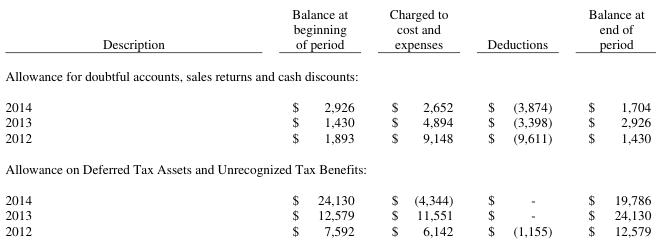table: (4, 3, 650, 238)
table column: (4, 3, 227, 238), (227, 3, 371, 238), (469, 3, 569, 238), (371, 3, 469, 238), (569, 3, 650, 238)
table column header: (4, 3, 650, 59)
table projected row header: (4, 59, 650, 90), (4, 152, 650, 183)
table row: (4, 3, 650, 59), (4, 59, 650, 90), (4, 152, 650, 183), (4, 128, 650, 152), (4, 90, 650, 113), (4, 183, 650, 206), (4, 221, 650, 238), (4, 113, 650, 128), (4, 206, 650, 221)
